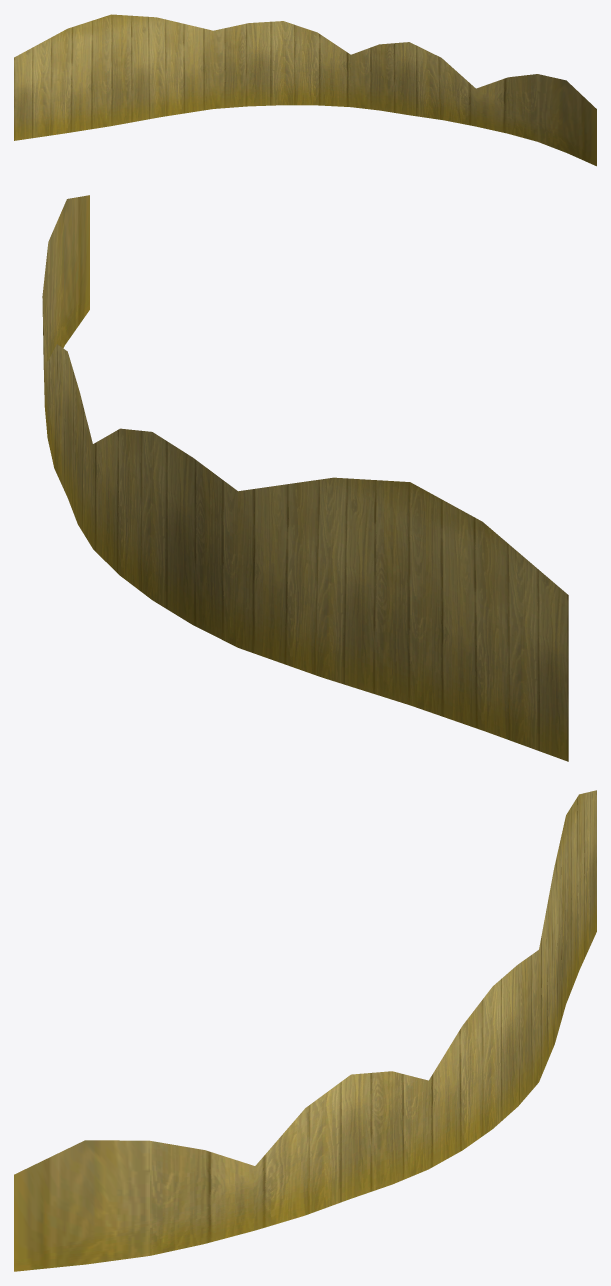
The model's file is HTOWN01_BAGENDFRONT.fbx.
The picture shows the model from 3 angles, top to bottom: view 1: azimuth 30°, elevation 25°; view 2: azimuth 150°, elevation 25°; view 3: azimuth 270°, elevation 25°; orthographic projection. The views are drawn at different scales.
Visible parts, largest first — view 1: HTOWN01_BAGENDFRONT; view 2: HTOWN01_BAGENDFRONT; view 3: HTOWN01_BAGENDFRONT.
Boxes of the visible parts, box(x1,y1,x2,y2) form: HTOWN01_BAGENDFRONT: box(14, 14, 596, 166); HTOWN01_BAGENDFRONT: box(42, 195, 568, 761); HTOWN01_BAGENDFRONT: box(14, 790, 596, 1271).
Size of the model in its own units: 97494 by 25306 by 70605.
Materials: 1 (1 with a texture image).
